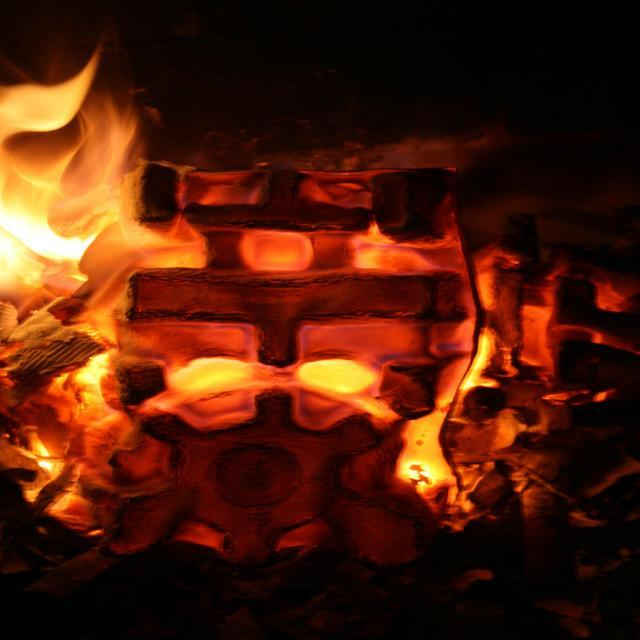Fire: (5, 166, 122, 300)
